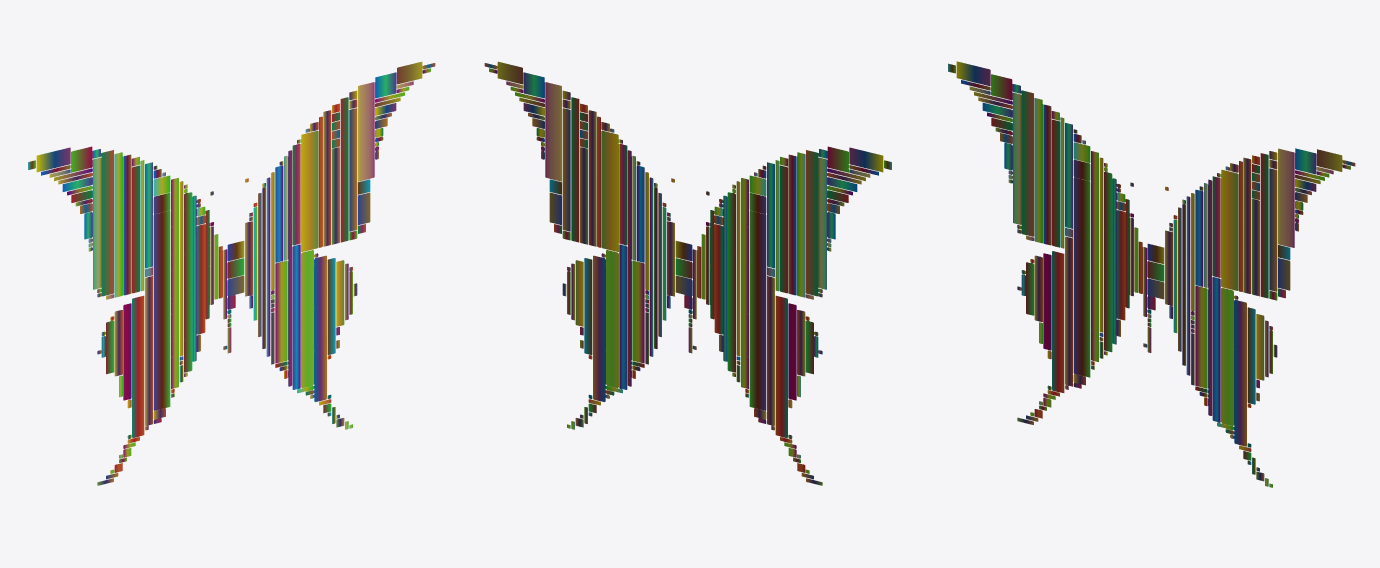
File: Poster 2.fbx
The picture shows the model from 3 angles, left to right: view 1: azimuth 30°, elevation 25°; view 2: azimuth 150°, elevation 25°; view 3: azimuth 330°, elevation 25°; orthographic projection.
Visible parts, largest first — view 1: pPlane1; view 2: pPlane1; view 3: pPlane1.
Part boxes in pixels (left/top/right/bottom): pPlane1: left=28, top=61, right=435, bottom=485; pPlane1: left=484, top=61, right=891, bottom=485; pPlane1: left=948, top=61, right=1355, bottom=487.
Bounding box in the file's own units: 3.39 × 3.26 × 0.
1 material, 1 textured.
